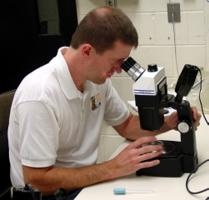person without safety: (10, 6, 142, 171)
